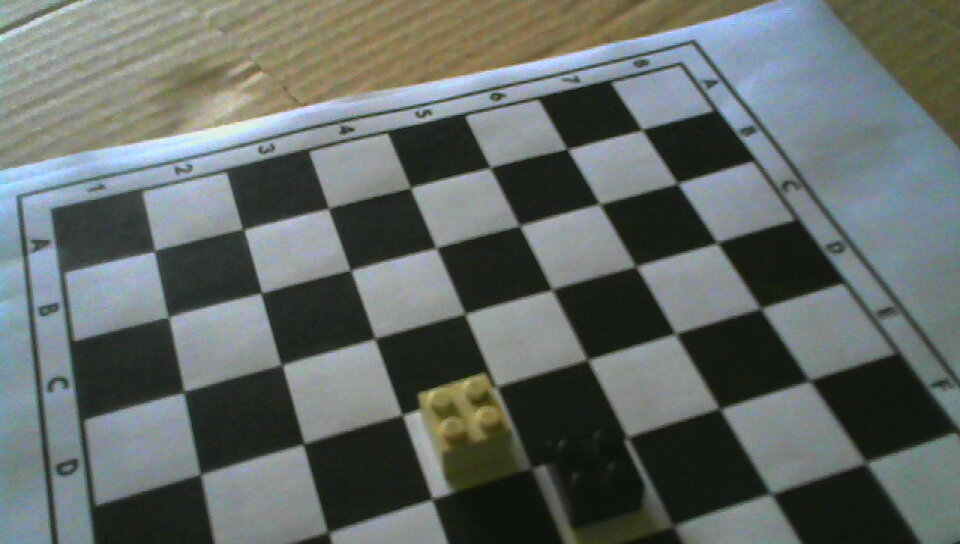bp: (542, 427, 648, 525)
wp: (415, 372, 514, 476)
